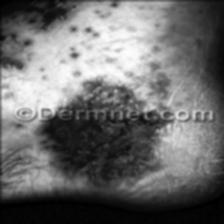Non-Cancerous Skin Condition: (0, 0, 167, 82), (29, 123, 196, 191), (34, 44, 180, 106)
